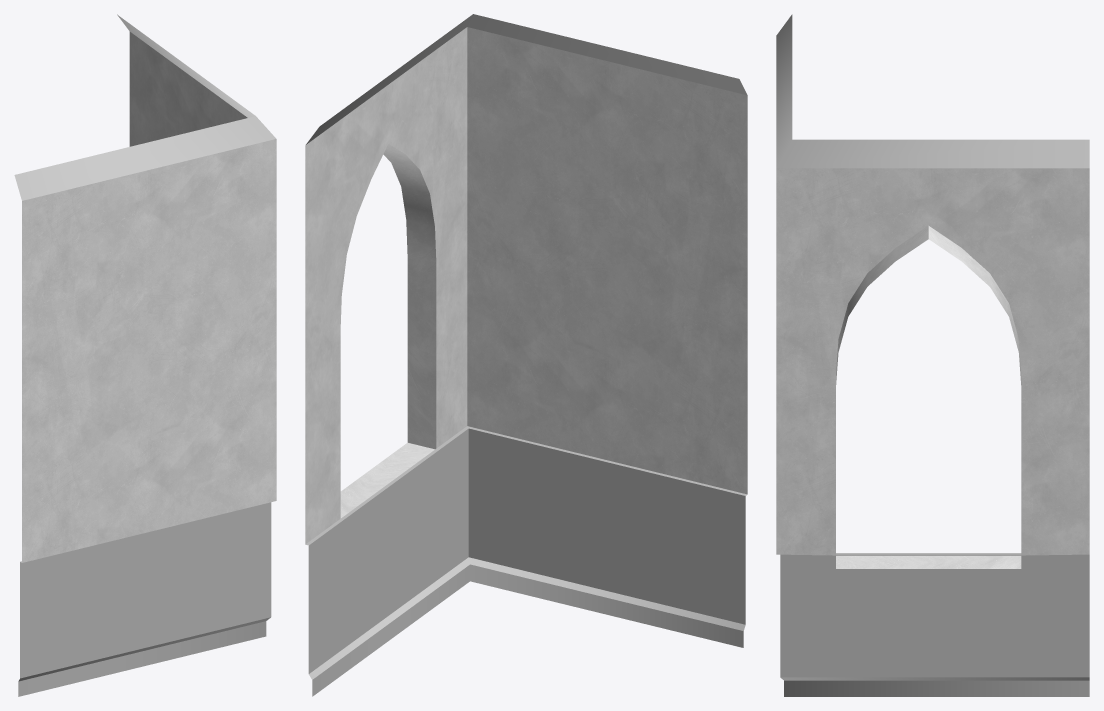
Rendered from WallIntWindowRoundedCornerinside1C.fbx.
3 views of the same model, side by side, from view 1: azimuth 30°, elevation 25°; view 2: azimuth 150°, elevation 25°; view 3: azimuth 270°, elevation 25° (orthographic). The views are drawn at different scales.
Visible parts, largest first — view 1: WallIntWindowRoundedCornerinside1C; view 2: WallIntWindowRoundedCornerinside1C; view 3: WallIntWindowRoundedCornerinside1C.
Boxes of the visible parts, x1,y1,x2,y2 form: WallIntWindowRoundedCornerinside1C: (14, 14, 276, 696); WallIntWindowRoundedCornerinside1C: (305, 14, 747, 696); WallIntWindowRoundedCornerinside1C: (776, 14, 1089, 696).
Bounding box in the file's own units: 215 × 380 × 195.
